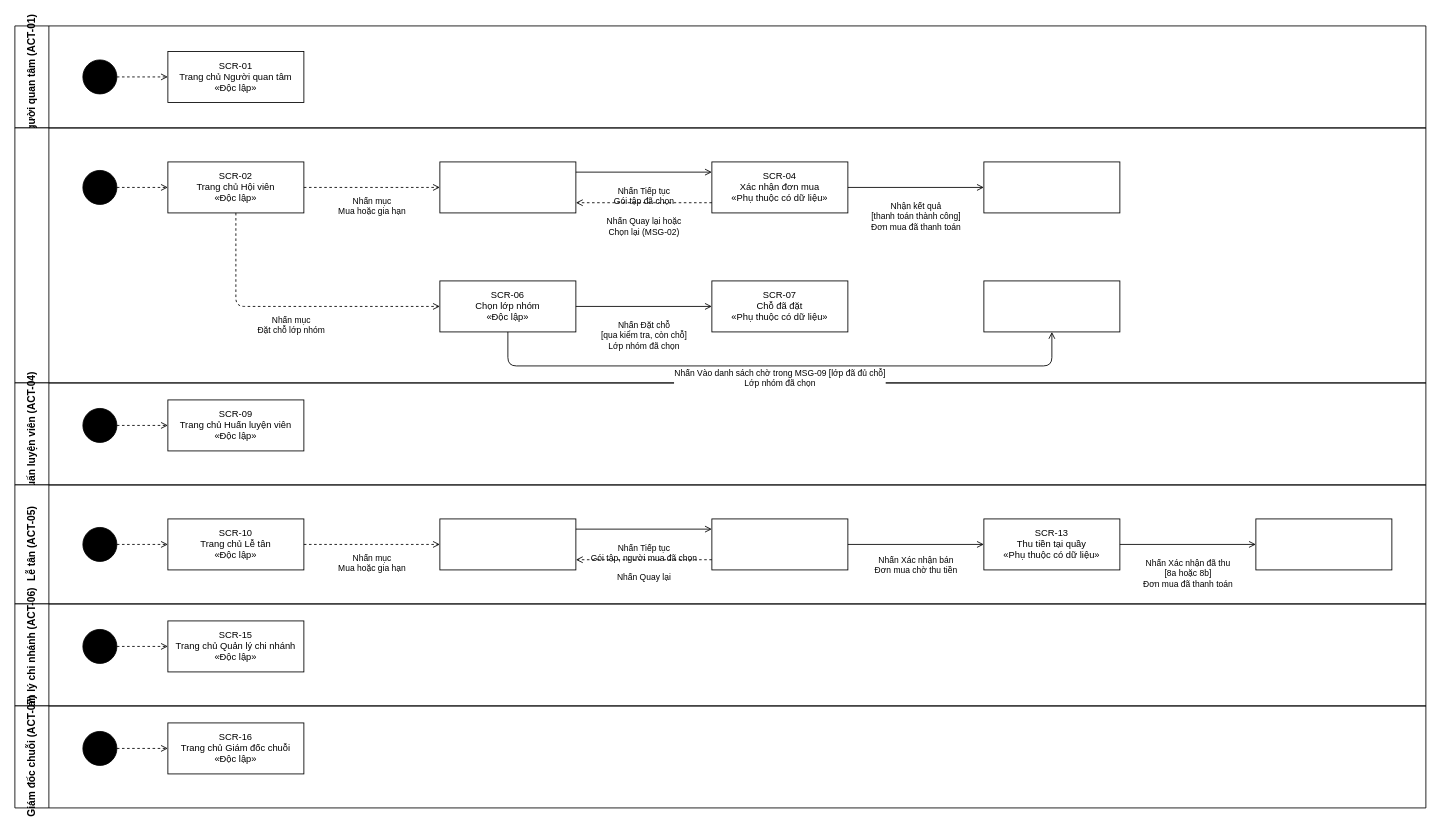
Some shapes in this 1441 by 832 pixel diagram are drawn without their labels. Here are the shapes that lost their labels. From the top down, the box of each, then its label:
(439, 161, 576, 213): SCR-03 Chọn gói tập «Độc lập»
(983, 161, 1120, 213): SCR-05 Gói tập đã kích hoạt «Phụ thuộc có dữ liệu»
(14, 127, 1426, 383): Hội viên (ACT-02)
(983, 280, 1120, 332): SCR-08 Vị trí trong danh sách chờ «Phụ thuộc có dữ liệu»
(439, 518, 576, 570): SCR-11 Chọn gói tập và người mua «Độc lập»
(711, 518, 848, 570): SCR-12 Xác nhận đơn bán tại quầy «Phụ thuộc có dữ liệu»
(1255, 518, 1392, 570): SCR-14 Gói tập đã kích hoạt tại quầy «Phụ thuộc có dữ liệu»
